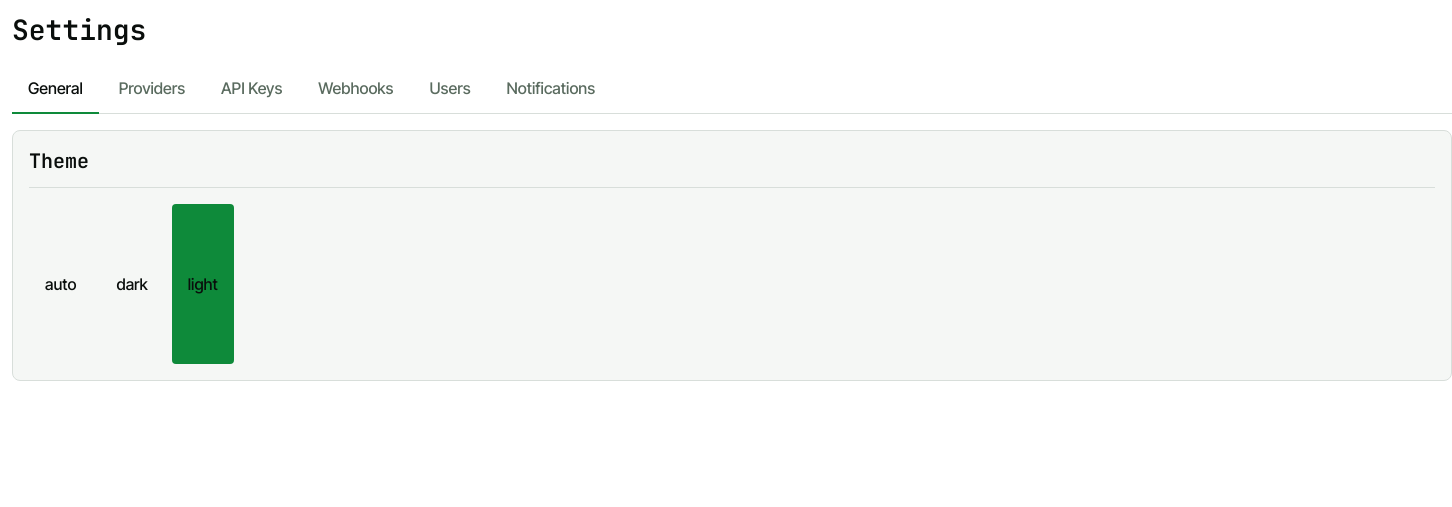
Test: Settings › shows built-in and custom providers on the Providers tab
What coordinates should you click on to do the following:
click the tab "Providers"
I would click on:
 (152, 89)
Its box is left=103, top=64, right=201, bottom=114.
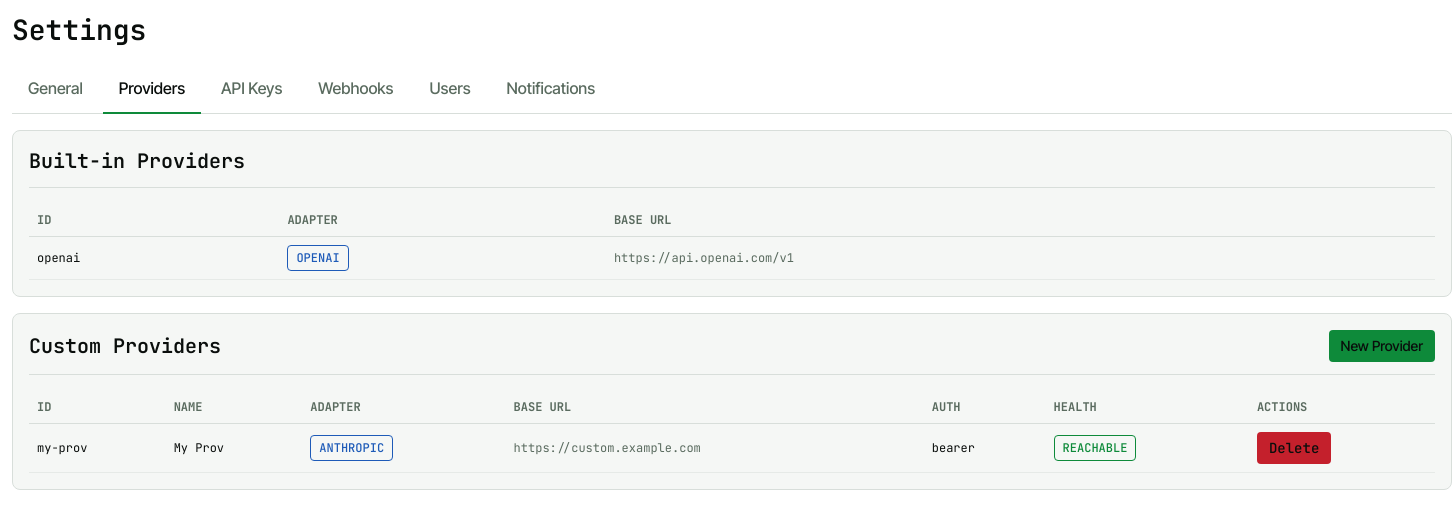
Now the heading "Built-in Providers" is shown, box left=29, top=147, right=245, bottom=175
Now the heading "Custom Providers" is shown, box left=29, top=332, right=221, bottom=360
Now the text "My Prov" is shown, box left=166, top=424, right=302, bottom=472
